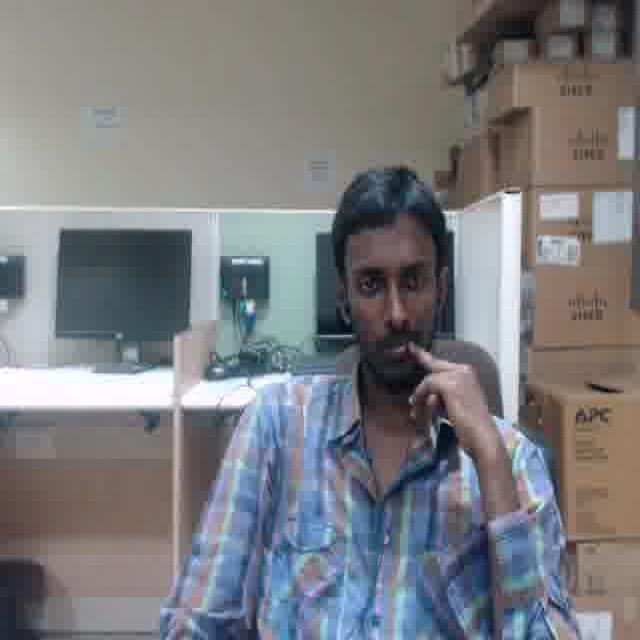Engaged: (347, 224, 434, 372)
